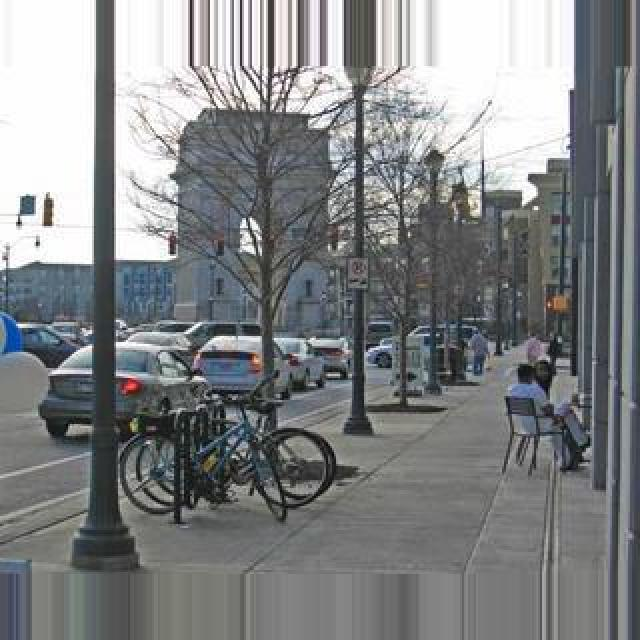Bus-Bike: (38, 344, 210, 440), (192, 334, 296, 398), (276, 336, 328, 390)
MC-Bike: (506, 362, 592, 464), (468, 328, 490, 378)
Person: (124, 390, 338, 524)
